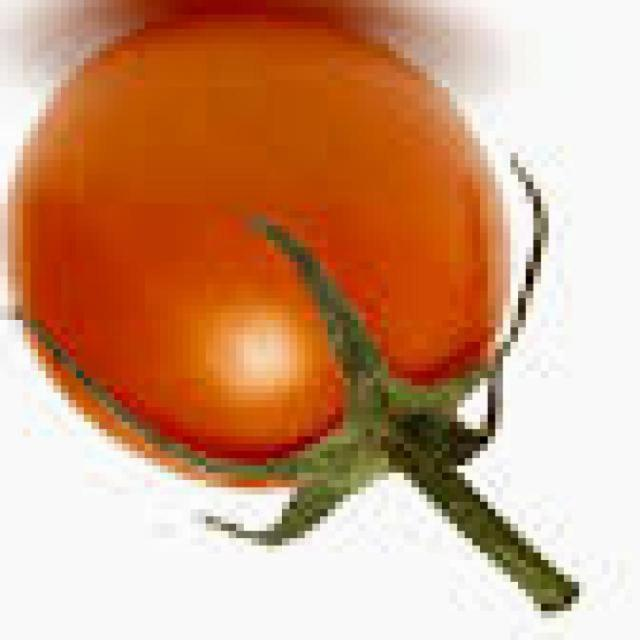Healthy Fruit: (5, 0, 336, 342)
